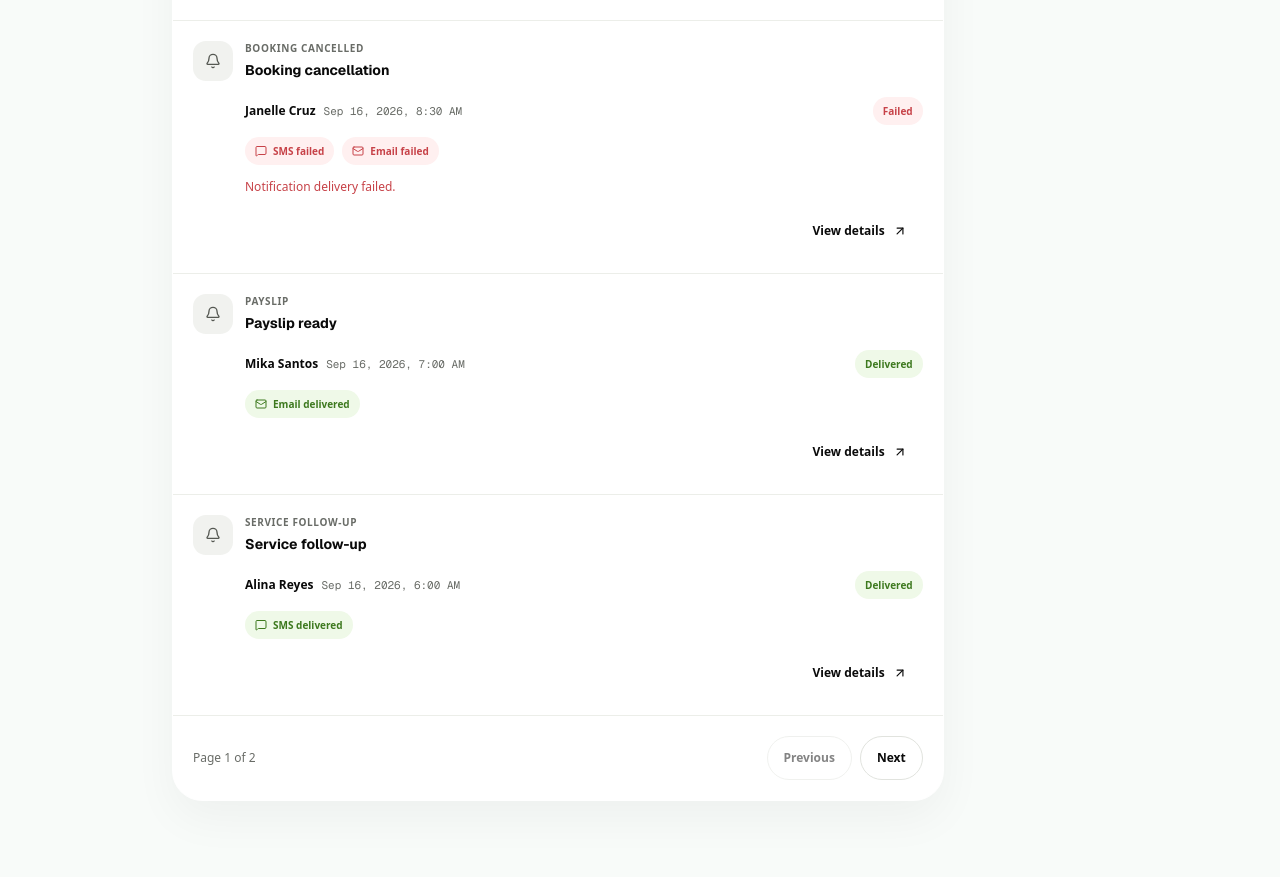
Test: Notifications preview › does not interpret an unrequested channel as failed
(page scrolled)
Click the button with aria-label "View notification for Mika Santos: Payslip": (860, 452) [796, 430, 923, 474]
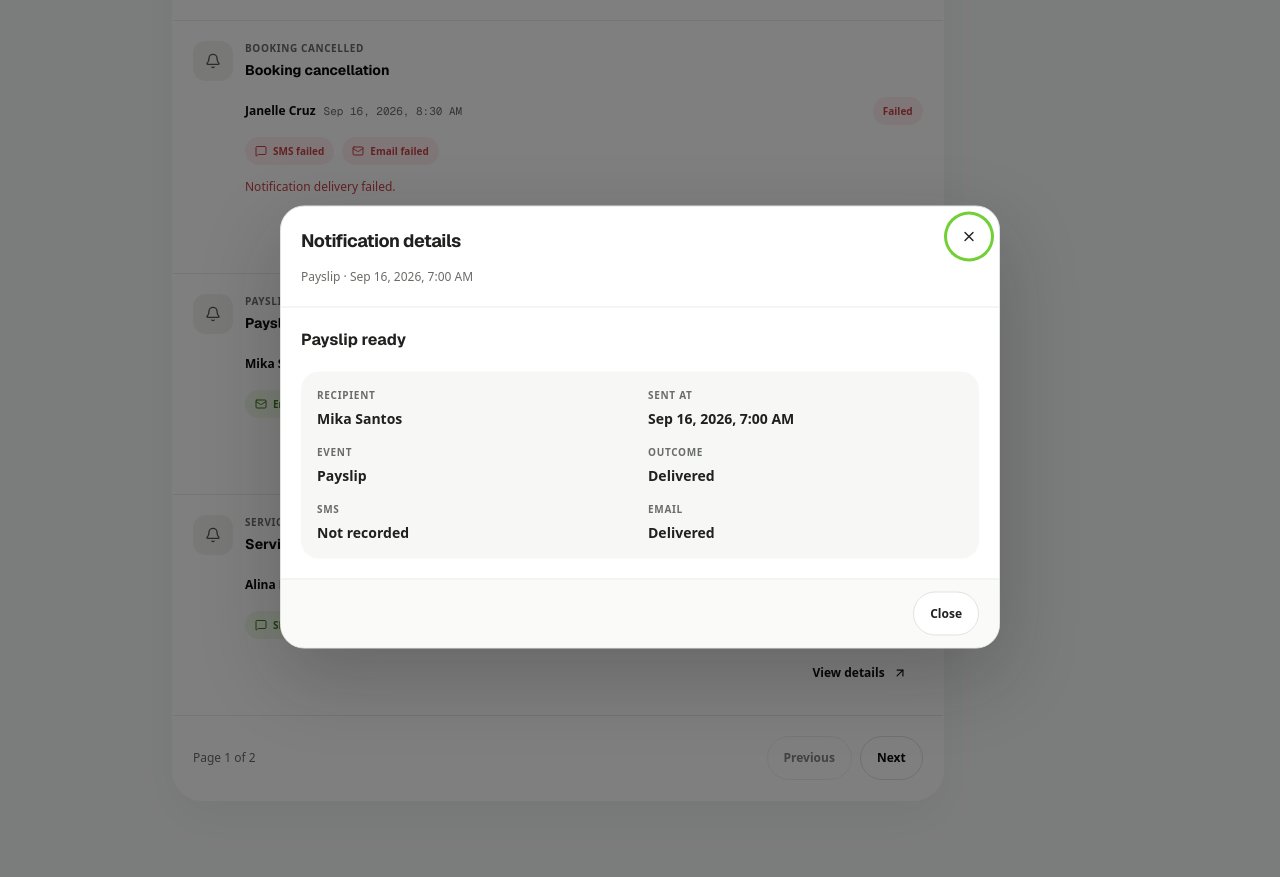
Expected: the text "Not recorded" is shown, [317, 522, 409, 542]
